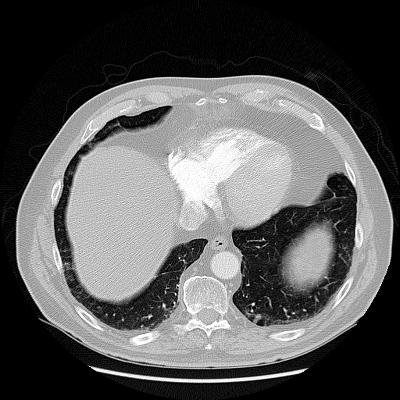nodule: (253, 314, 261, 322)
